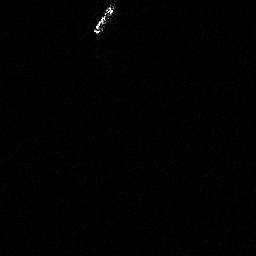ship: (90, 1, 117, 36)
